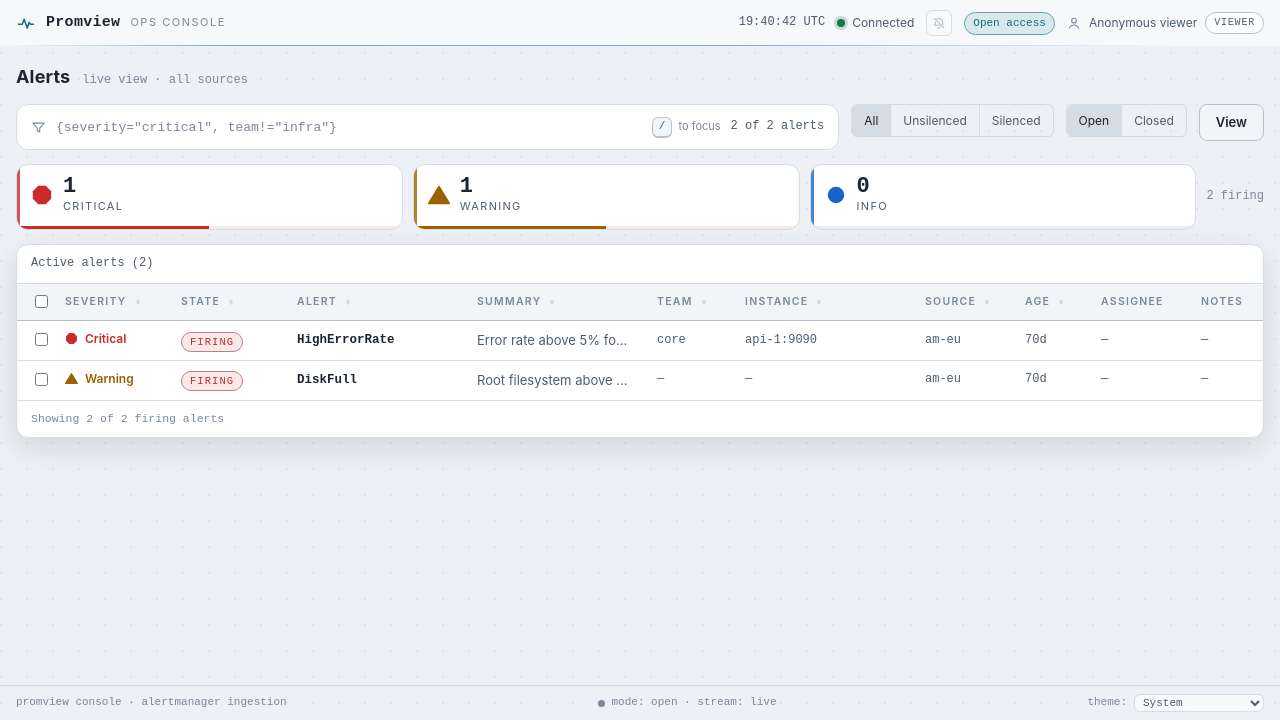
App › applies the label filter server-side with repeated match params
Expected: the text "Connected" is shown, x1=852 y1=14 x2=914 y2=32
Expected: the text "HighErrorRate" is shown, x1=283 y1=320 x2=463 y2=360
In the field named "filter alerts": [349, 127] box x1=56 y1=108 x2=642 y2=147, type "alertname=\"DiskFull\""
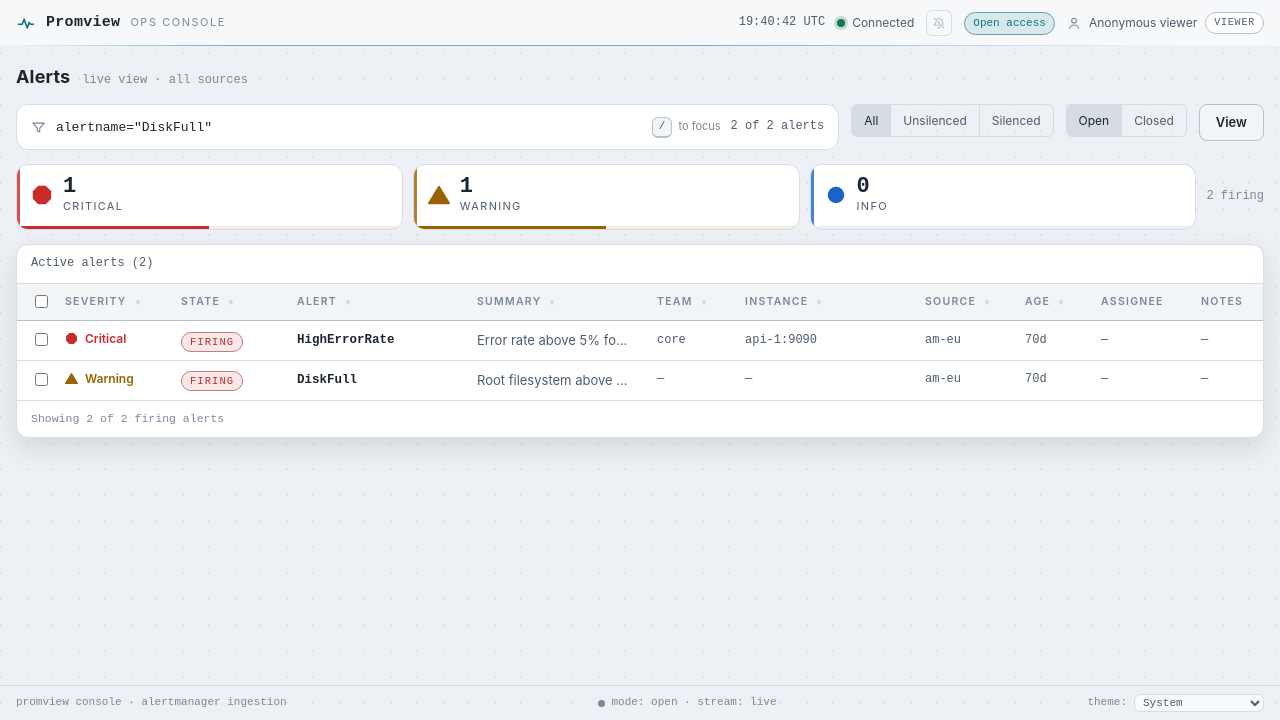
Press Enter in the field named "filter alerts", box x1=56 y1=108 x2=642 y2=147
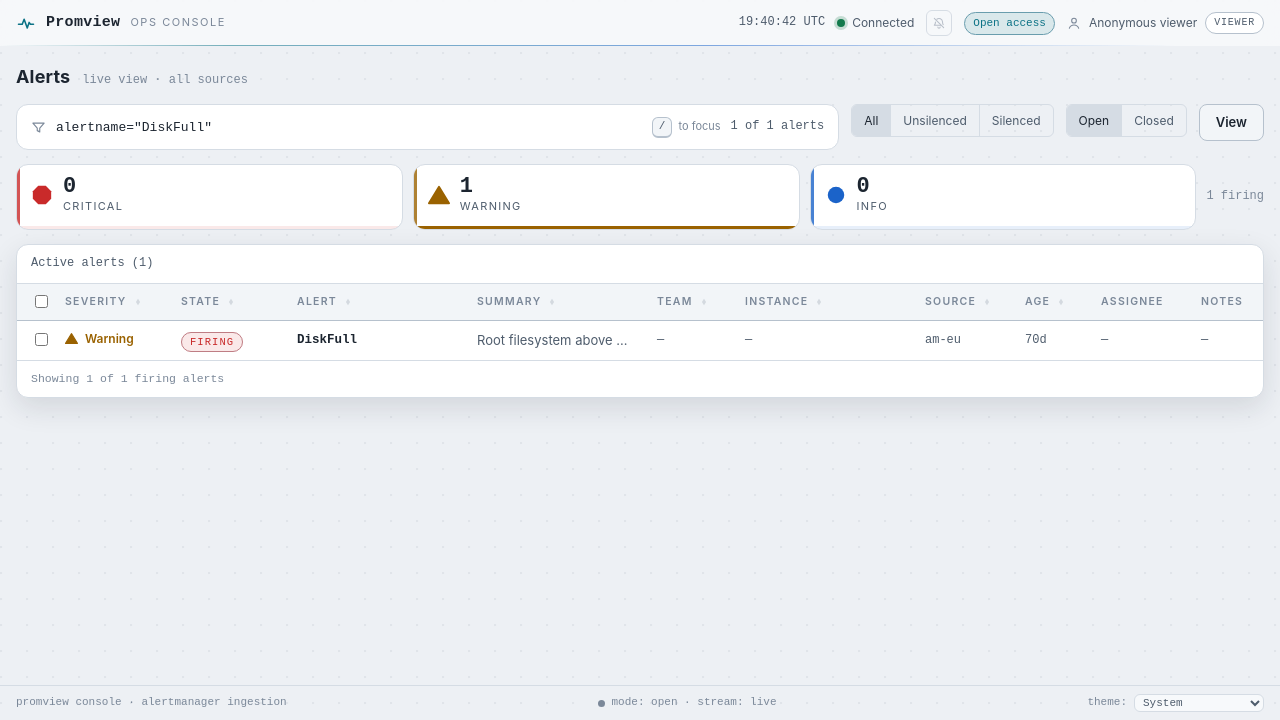
Expected: the text "DiskFull" is shown, x1=283 y1=320 x2=463 y2=360
Now the text "1 of 1 alerts" is shown, box x1=731 y1=118 x2=824 y2=136
Now the text "HighErrorRate" is gone
Press Escape in the field named "filter alerts", box x1=56 y1=108 x2=642 y2=147
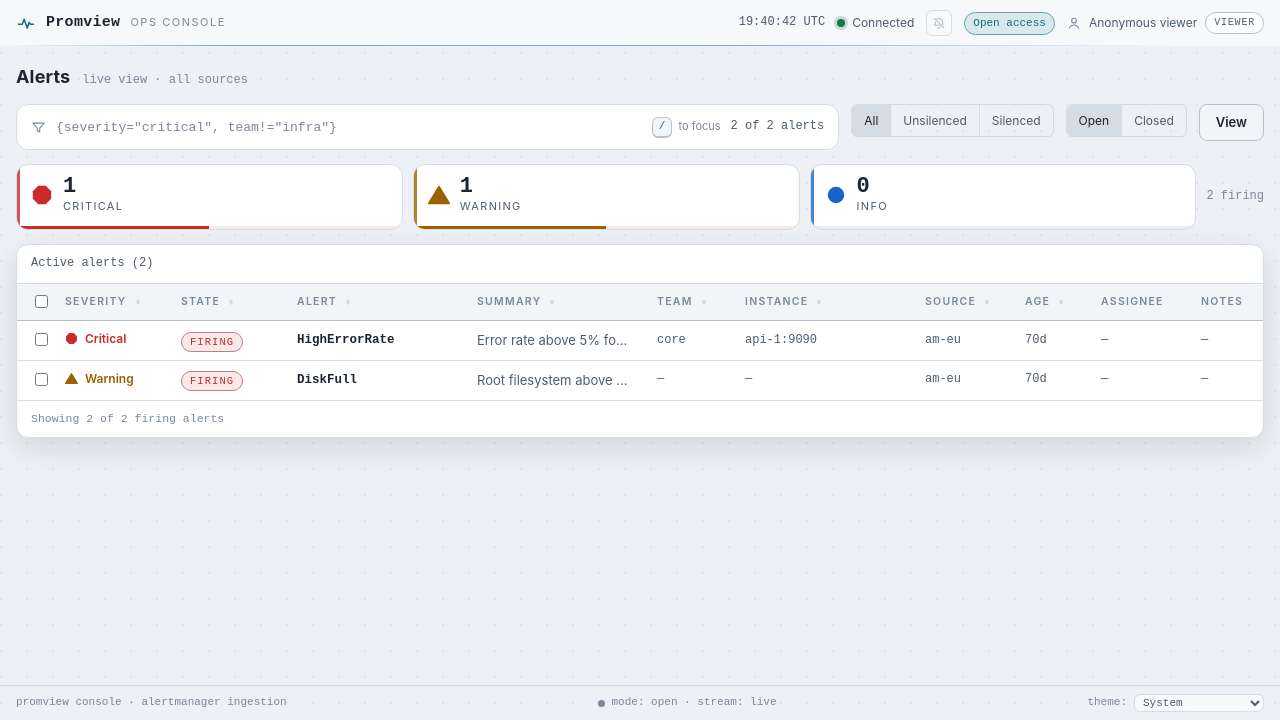
Now the text "HighErrorRate" is shown, box x1=283 y1=320 x2=463 y2=360
Now the field named "filter alerts" is empty, box x1=56 y1=108 x2=642 y2=147
